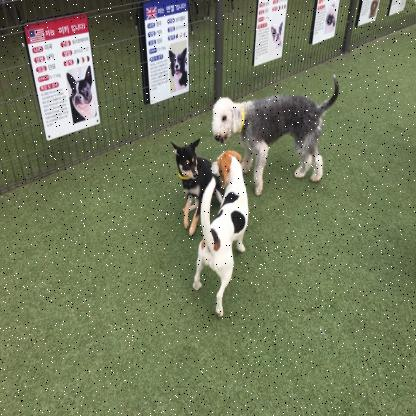dog: (210, 89, 342, 185), (202, 150, 256, 321), (169, 134, 210, 228), (63, 68, 97, 122), (162, 43, 189, 88), (269, 19, 285, 49), (326, 5, 337, 30)
